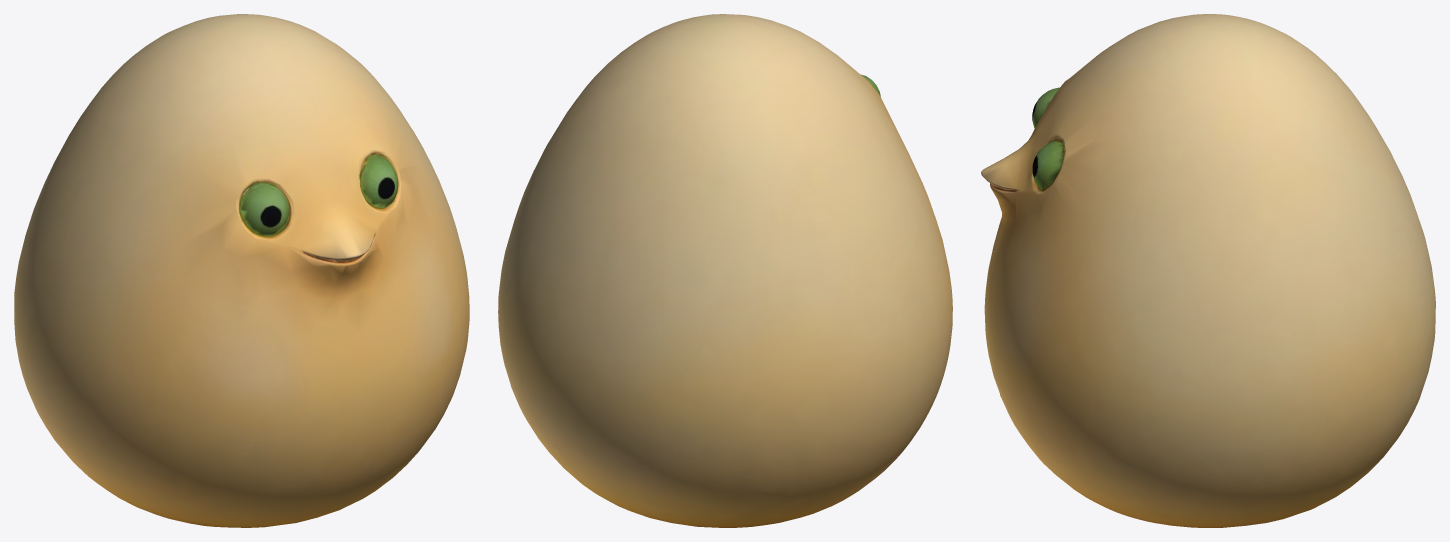
The model's file is naidan.glb.
The picture shows the model from 3 angles, left to right: view 1: azimuth 30°, elevation 25°; view 2: azimuth 150°, elevation 25°; view 3: azimuth 270°, elevation 25°; orthographic projection.
Parts seen in each view (by area): view 1: node_0; view 2: node_0; view 3: node_0.
Boxes of the visible parts, bbox=[...] form: node_0: bbox=[14, 14, 469, 527]; node_0: bbox=[498, 14, 952, 527]; node_0: bbox=[981, 14, 1435, 527].
Size of the model in its own units: 0.9848 by 1.07 by 0.9833.
1 material, 1 textured.
